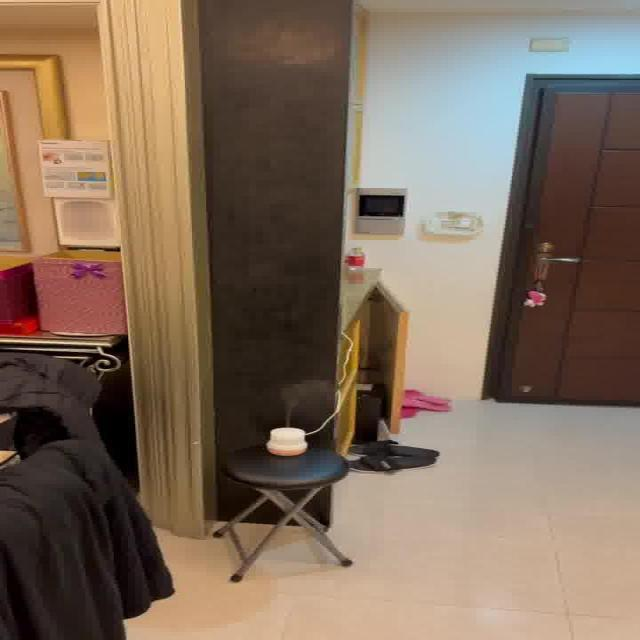fire: (269, 376, 320, 419)
